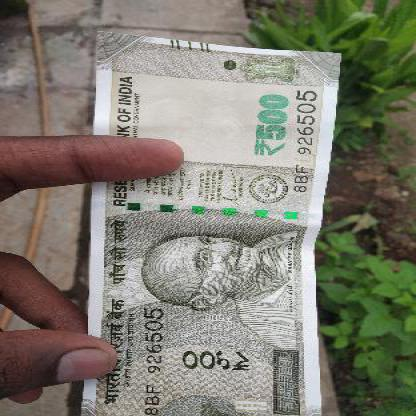New500Front: (91, 32, 320, 415)
